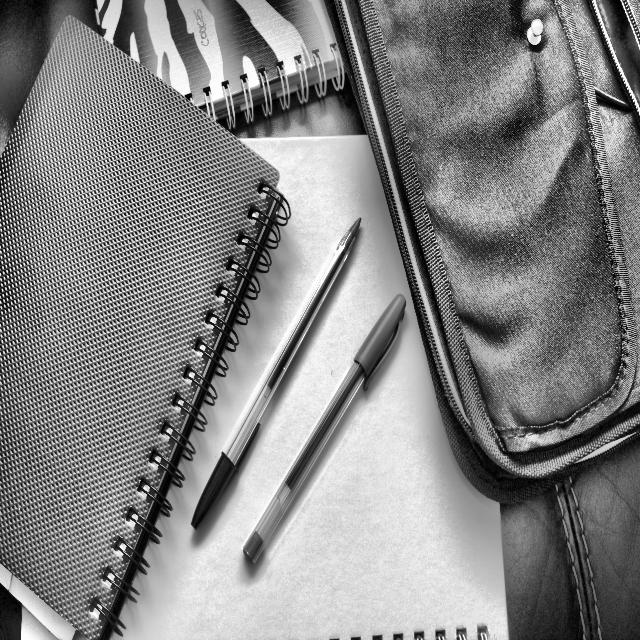Notebook: (0, 16, 290, 640)
Pen: (189, 214, 364, 531), (242, 291, 408, 565)
